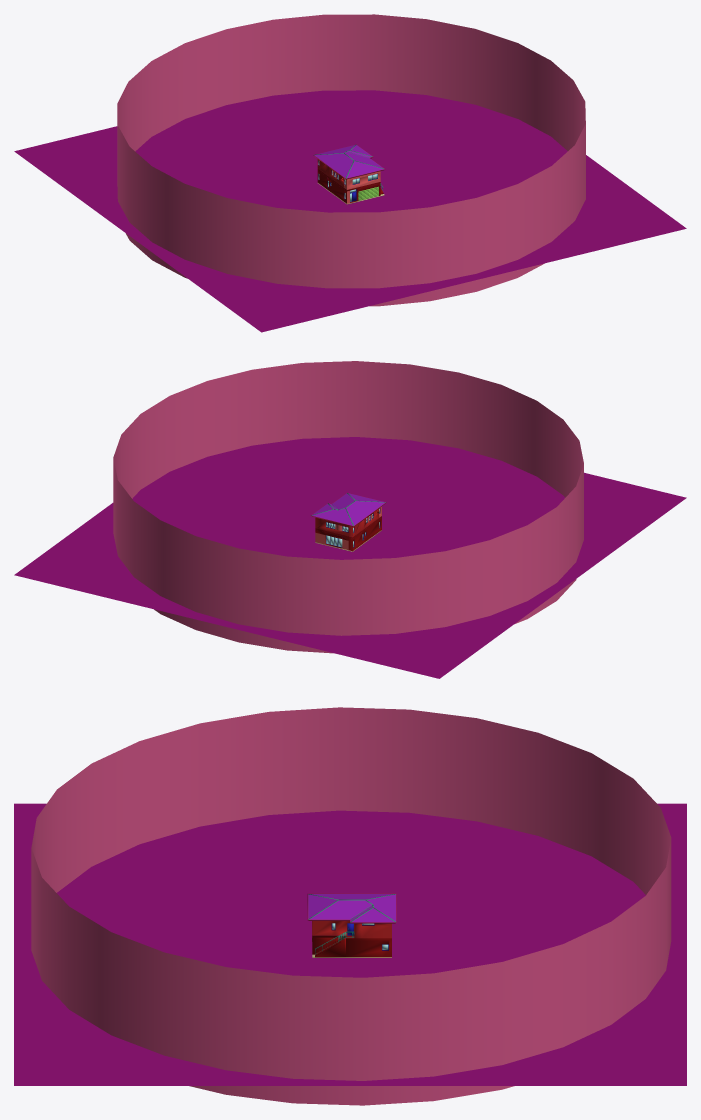
File: SingleHouse.obj
The picture shows the model from 3 angles, top to bottom: view 1: azimuth 30°, elevation 25°; view 2: azimuth 150°, elevation 25°; view 3: azimuth 270°, elevation 25°; orthographic projection. The views are drawn at different scales.
Visible parts, largest first — view 1: environment, base, wall_dirt_B00, roof_B01; view 2: environment, base, wall_dirt_B00, wall_dirt_A03, roof_B01; view 3: environment, base, wall_dirt_B00, roof_B05.
Part boxes in pixels (<box>): environment: <box>117,14,585,306</box>; base: <box>14,90,686,332</box>; wall_dirt_B00: <box>317,169,380,203</box>; roof_B01: <box>314,153,353,178</box>; environment: <box>113,361,583,653</box>; base: <box>14,437,686,678</box>; wall_dirt_B00: <box>315,516,381,551</box>; wall_dirt_A03: <box>315,508,379,537</box>; roof_B01: <box>346,501,384,525</box>; environment: <box>31,707,671,1105</box>; base: <box>14,803,686,1085</box>; wall_dirt_B00: <box>312,936,391,957</box>; roof_B05: <box>309,900,371,919</box>.
Bounding box in the file's own units: 10231 × 2159 × 10307.
